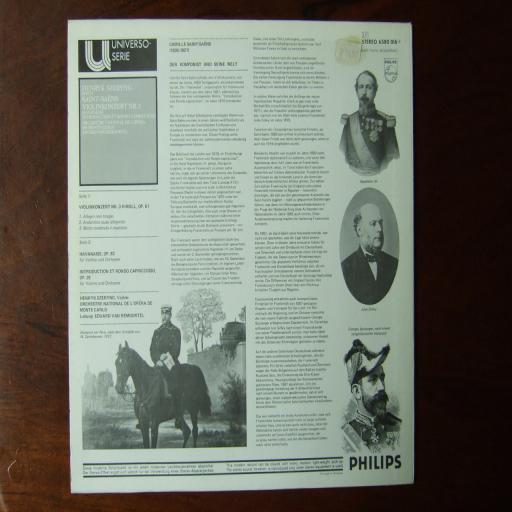horse: (114, 338, 211, 449)
